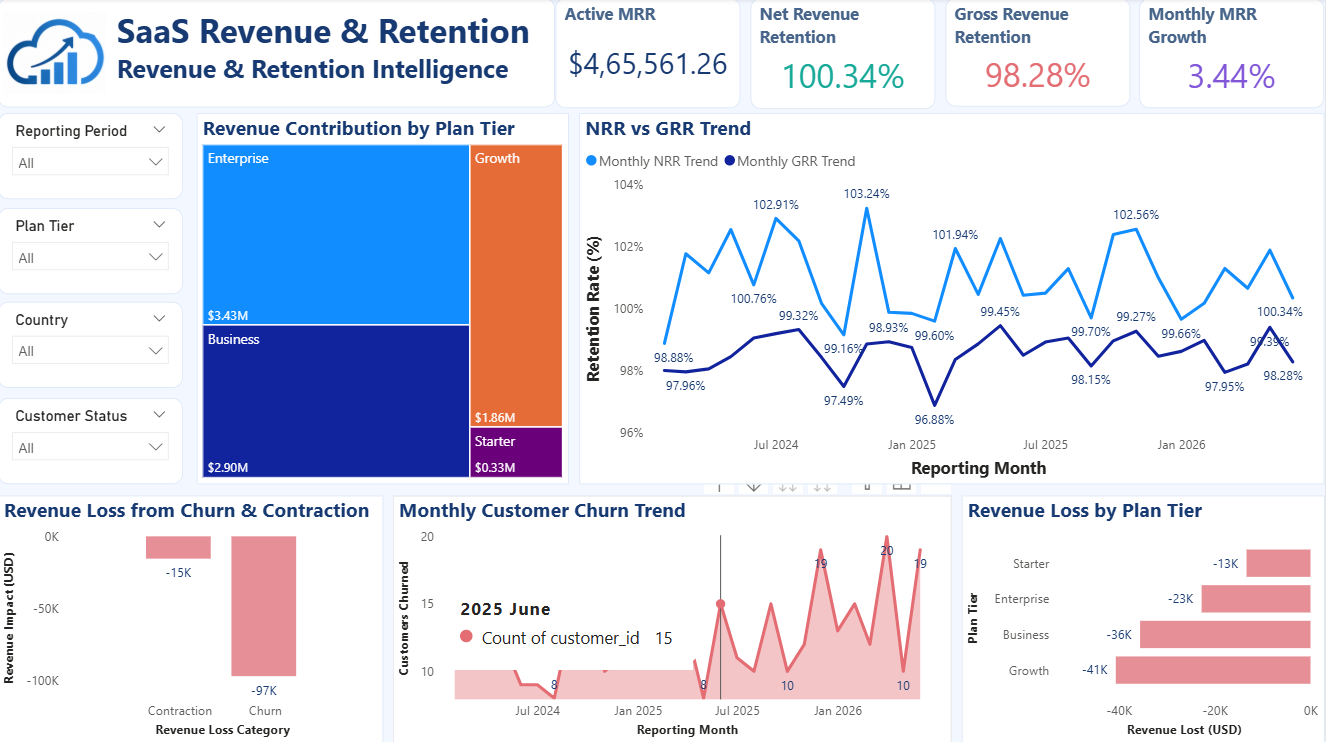

What the dashboard file says about the page in this screenshot:
{"tool":"powerbi","page":{"name":"Revenue & Retention Analytics.","canvas":[1280,720],"ordinal":2},"visuals":[{"type":"card","title":"Gross Revenue Retention","fields":{"Values":["customers.Dynamic GRR"]},"box":[914.5,0,178.6,105],"z":0},{"type":"card","title":"Monthly MRR Growth","fields":{"Values":["customers.Monthly MRR Growth %"]},"box":[1101.4,0,178.6,106.2],"z":1000},{"type":"slicer","fields":{"Values":["subscription_months.period_month"]},"box":[0,111,178.6,83.2],"z":2000},{"type":"slicer","fields":{"Values":["plans.tier"]},"box":[0,202.7,178.6,83.2],"z":3000},{"type":"slicer","fields":{"Values":["customers.country"]},"box":[0,293.2,178.6,83.2],"z":4000},{"type":"slicer","fields":{"Values":["customers.customer_status"]},"box":[0,386.1,178.6,83.2],"z":5000},{"type":"image","box":[0,0,108.4,105.7],"z":6000},{"type":"textbox","box":[0,0,537.9,105.7],"z":7000},{"type":"image","box":[0,0,109.8,105.7],"z":8000},{"type":"card","title":"Active MRR","fields":{"Values":["customers.Active MRR (Selected Period)"]},"box":[538.1,0,178.6,106.2],"z":9000},{"type":"card","title":"Net Revenue Retention","fields":{"Values":["nrr_grr_monthly.Selected NRR"]},"box":[725.9,0,178.4,107],"z":10000},{"type":"treemap","title":"Revenue Contribution by Plan Tier","fields":{"Group":["plans.tier"],"Values":["Sum(subscription_months.mrr_usd)"]},"box":[191.8,111,359.5,358.3],"z":11000},{"type":"clusteredColumnChart","title":"Revenue Loss from Churn & Contraction","fields":{"Category":["subscription_months.movement_type"],"Y":["Sum(subscription_months.mrr_delta_usd)"]},"box":[0,480.3,371.9,240.1],"z":12000},{"type":"areaChart","title":"Monthly Customer Churn Trend","fields":{"Category":["subscription_months.period_month.Variation.Date Hierarchy.Year","subscription_months.period_month.Variation.Date Hierarchy.Month"],"Y":["Count(subscription_months.customer_id)"]},"box":[381.5,480.3,539.3,240.1],"z":13000},{"type":"clusteredBarChart","title":"Revenue Loss by Plan Tier","fields":{"Category":["plans.tier"],"Y":["Sum(subscription_months.mrr_delta_usd)"]},"box":[930,480,350,240],"z":14000},{"type":"lineChart","title":"NRR vs GRR Trend","fields":{"Y":["subscription_months.Monthly NRR Trend","subscription_months.Monthly GRR Trend"],"Category":["subscription_months.period_month.Variation.Date Hierarchy.Year","subscription_months.period_month.Variation.Date Hierarchy.Month"]},"box":[561,111,719,358.3],"z":15000}]}

Visuals, with their boxes in screenshot pixels (x1, y1, x2, y2), scaled from the page's 1280x720 canvas onto the 1326x742 screenshot:
"Gross Revenue Retention" card: l=947, t=0, r=1132, b=108
"Monthly MRR Growth" card: l=1141, t=0, r=1325, b=109
slicer - subscription_months.period_month: l=0, t=114, r=185, b=200
slicer - plans.tier: l=0, t=209, r=185, b=295
slicer - customers.country: l=0, t=302, r=185, b=388
slicer - customers.customer_status: l=0, t=398, r=185, b=484
image: l=0, t=0, r=112, b=109
textbox: l=0, t=0, r=557, b=109
image: l=0, t=0, r=114, b=109
"Active MRR" card: l=557, t=0, r=742, b=109
"Net Revenue Retention" card: l=752, t=0, r=937, b=110
"Revenue Contribution by Plan Tier" treemap: l=199, t=114, r=571, b=484
"Revenue Loss from Churn & Contraction" clusteredColumnChart: l=0, t=495, r=385, b=741
"Monthly Customer Churn Trend" areaChart: l=395, t=495, r=954, b=741
"Revenue Loss by Plan Tier" clusteredBarChart: l=963, t=495, r=1325, b=741
"NRR vs GRR Trend" lineChart: l=581, t=114, r=1325, b=484
